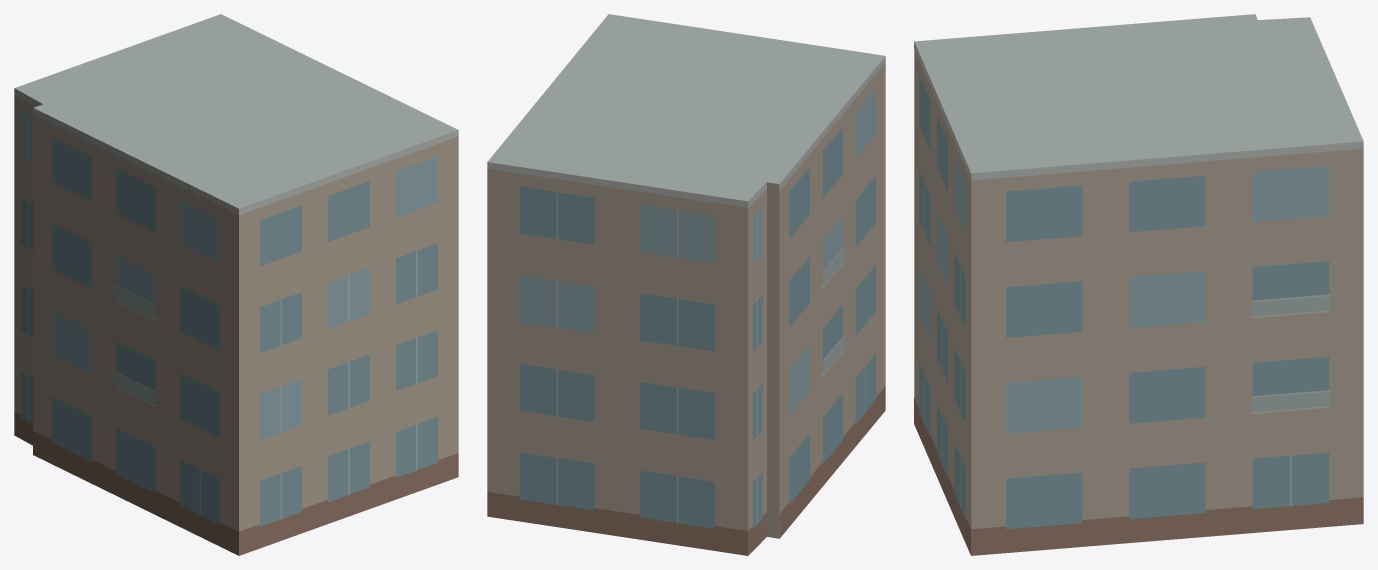
The model's file is survey-upis-32974550.glb.
3 renders of one model, left to right at view 1: azimuth 30°, elevation 25°; view 2: azimuth 150°, elevation 25°; view 3: azimuth 270°, elevation 25°, orthographic. The views are drawn at different scales.
Parts seen in each view (by area): view 1: survey-upis-32974550.tmp; view 2: survey-upis-32974550.tmp; view 3: survey-upis-32974550.tmp.
Part boxes in pixels (box(x1,y1,x2,y2)): survey-upis-32974550.tmp: box(14, 14, 458, 555); survey-upis-32974550.tmp: box(487, 14, 885, 555); survey-upis-32974550.tmp: box(914, 14, 1363, 555).
Bounding box in the file's own units: 11.62 × 13 × 13.86.
